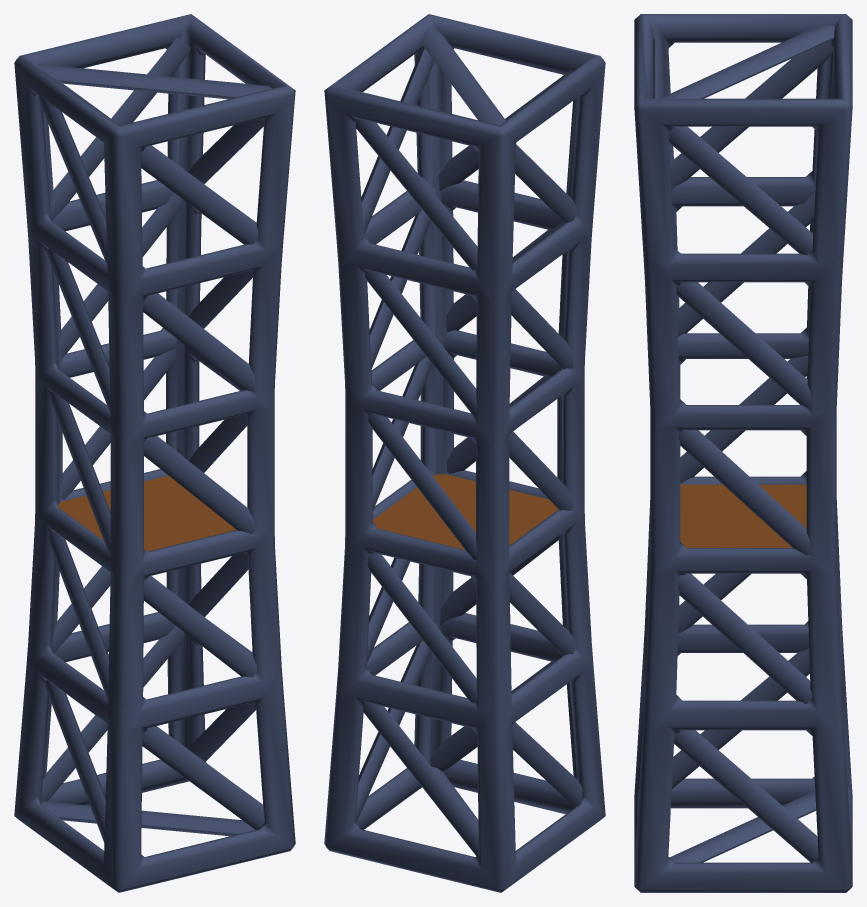
File: SM_Construction_Sign_01.fbx
3 renders of one model, left to right at view 1: azimuth 30°, elevation 25°; view 2: azimuth 150°, elevation 25°; view 3: azimuth 270°, elevation 25°, orthographic. The views are drawn at different scales.
Parts seen in each view (by area): view 1: 005_Constuction_Sign_02; view 2: 005_Constuction_Sign_02; view 3: 005_Constuction_Sign_02.
Part boxes in pixels (x1,y1,x2,y2): 005_Constuction_Sign_02: [14, 14, 295, 892]; 005_Constuction_Sign_02: [324, 14, 605, 892]; 005_Constuction_Sign_02: [634, 14, 852, 892].
Bounding box in the file's own units: 800 × 3200 × 800.
